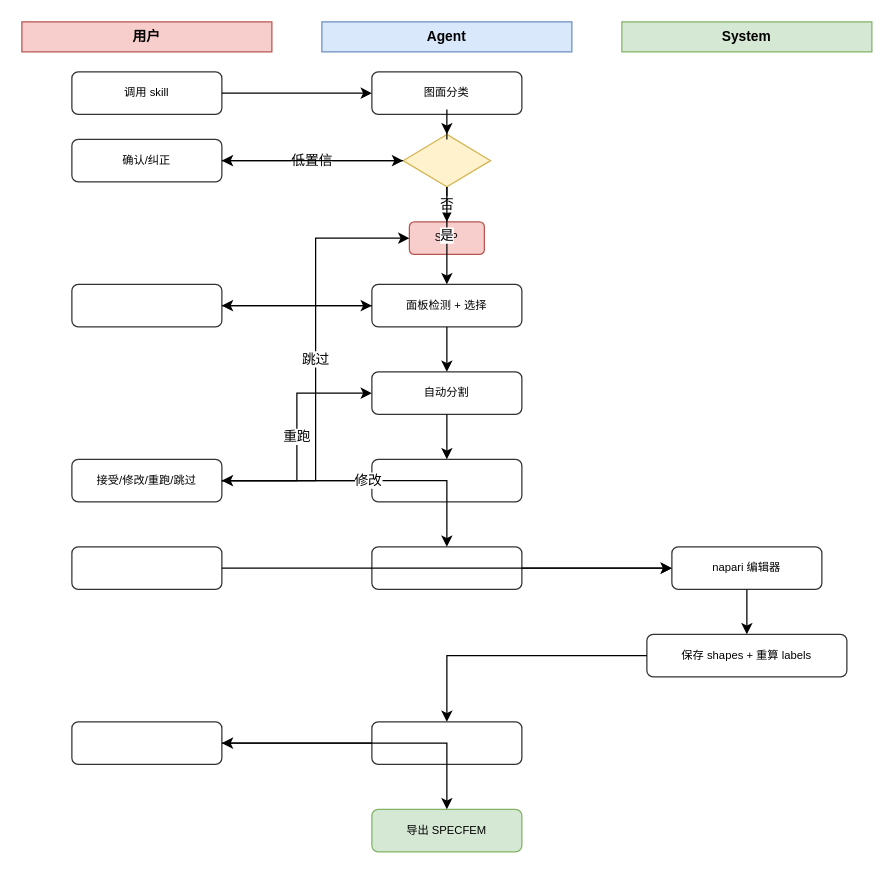
Some shapes in this 894 by 874 pixel diagram are drawn without their labels. Each missing label, with the box of its shape:
velocity?: (402, 133, 491, 187)
启动 napari: (371, 546, 522, 589)
展示 overlay + 指标: (371, 458, 522, 502)
展示更新 overlay: (371, 721, 522, 764)
画线/删线/调顶点: (71, 546, 222, 589)
确认接受: (71, 721, 222, 764)
选择目标面板: (71, 283, 222, 327)
